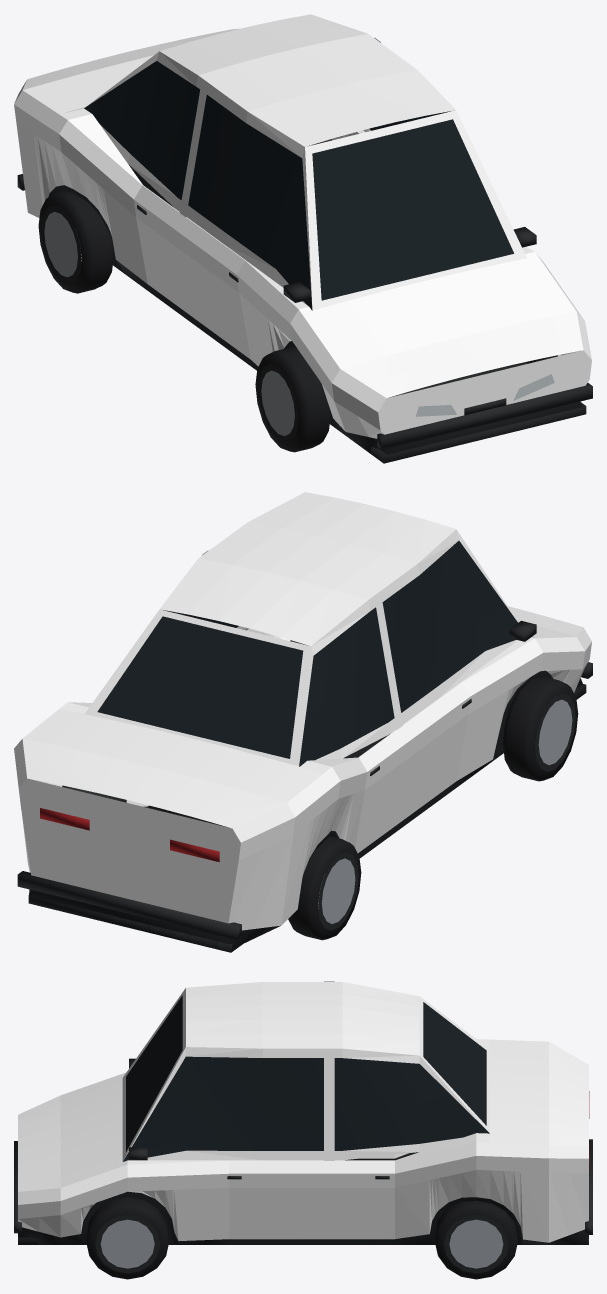
Rendered from ottavo_terra.glb.
3 views of the same model, one above another, from view 1: azimuth 30°, elevation 25°; view 2: azimuth 150°, elevation 25°; view 3: azimuth 270°, elevation 25° (orthographic). The views are drawn at different scales.
Parts seen in each view (by area): view 1: Body_Paint, Body_Details, Mount_FrontLeft_Wheel_Details, Mount_RearLeft_Wheel_Details; view 2: Body_Paint, Body_Details, Mount_FrontLeft_Wheel_Details, Mount_RearLeft_Wheel_Details; view 3: Body_Paint, Body_Details, Mount_FrontRight_Wheel_Details, Mount_RearRight_Wheel_Details.
Boxes of the visible parts, bbox=[...] form: Body_Paint: bbox=[14, 14, 591, 438]; Body_Details: bbox=[17, 61, 592, 463]; Mount_FrontLeft_Wheel_Details: bbox=[255, 347, 330, 452]; Mount_RearLeft_Wheel_Details: bbox=[38, 190, 113, 293]; Body_Paint: bbox=[14, 492, 591, 930]; Body_Details: bbox=[17, 541, 592, 952]; Mount_FrontLeft_Wheel_Details: bbox=[503, 676, 578, 781]; Mount_RearLeft_Wheel_Details: bbox=[288, 836, 361, 940]; Body_Paint: bbox=[18, 981, 588, 1242]; Body_Details: bbox=[14, 995, 592, 1244]; Mount_FrontRight_Wheel_Details: bbox=[86, 1197, 169, 1279]; Mount_RearRight_Wheel_Details: bbox=[434, 1201, 517, 1279].
Size of the model in its own units: 1.82 by 1.65 by 4.03.
Materials: 2 (1 with a texture image).
